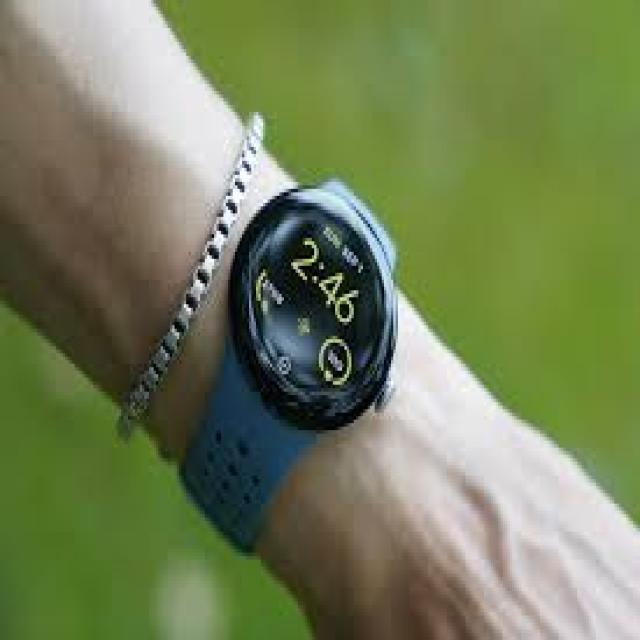objects: (223, 176, 402, 473)
